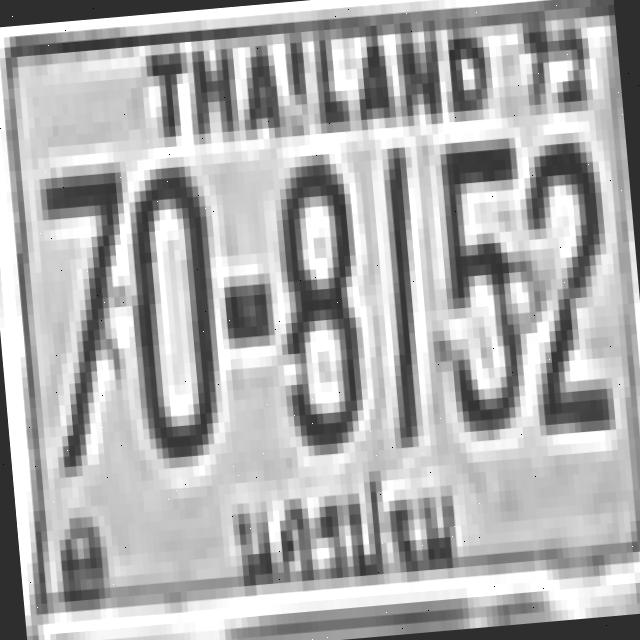0: (116, 150, 223, 454)
1: (370, 147, 430, 438)
2: (515, 131, 615, 425)
5: (426, 128, 534, 432)
7: (32, 162, 140, 467)
8: (264, 148, 364, 442)
NakhonPathom: (208, 448, 472, 616)
